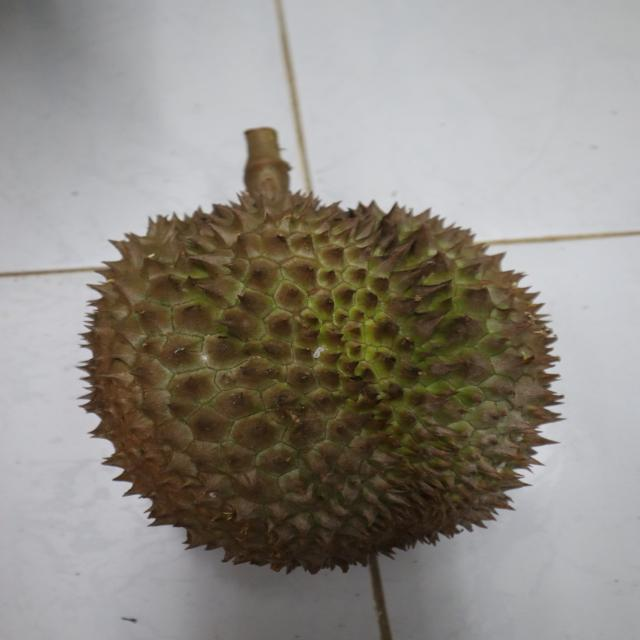mature: (78, 189, 568, 571)
